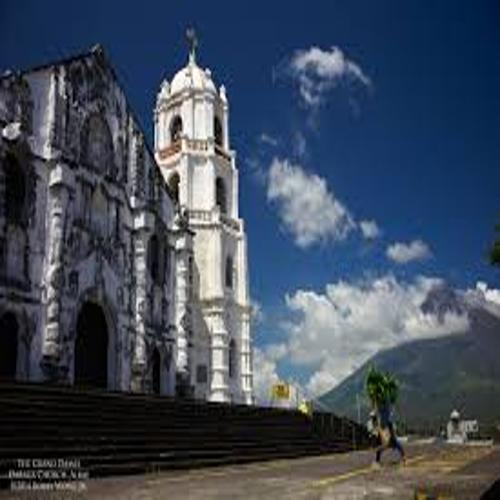Daraga Church: (1, 6, 264, 408)
